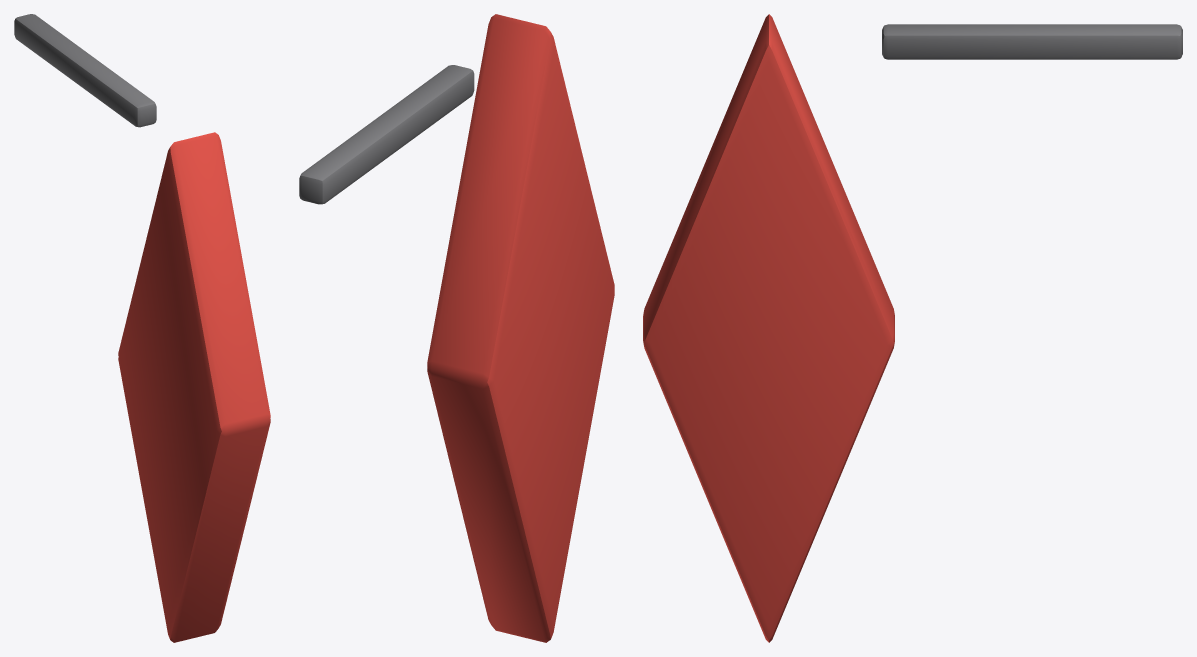
The model's file is carotte.glb.
The picture shows the model from 3 angles, left to right: view 1: azimuth 30°, elevation 25°; view 2: azimuth 150°, elevation 25°; view 3: azimuth 270°, elevation 25°; orthographic projection. The views are drawn at different scales.
Visible parts, largest first — view 1: carotte; view 2: carotte; view 3: carotte.
Part boxes in pixels (left/top/right/bottom): carotte: left=14, top=14, right=270, bottom=642; carotte: left=299, top=14, right=614, bottom=642; carotte: left=643, top=14, right=1182, bottom=642.
Bounding box in the file's own units: 0.1 × 0.8868 × 0.7175.
